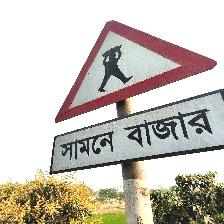Market-in-front: (51, 18, 223, 176)
